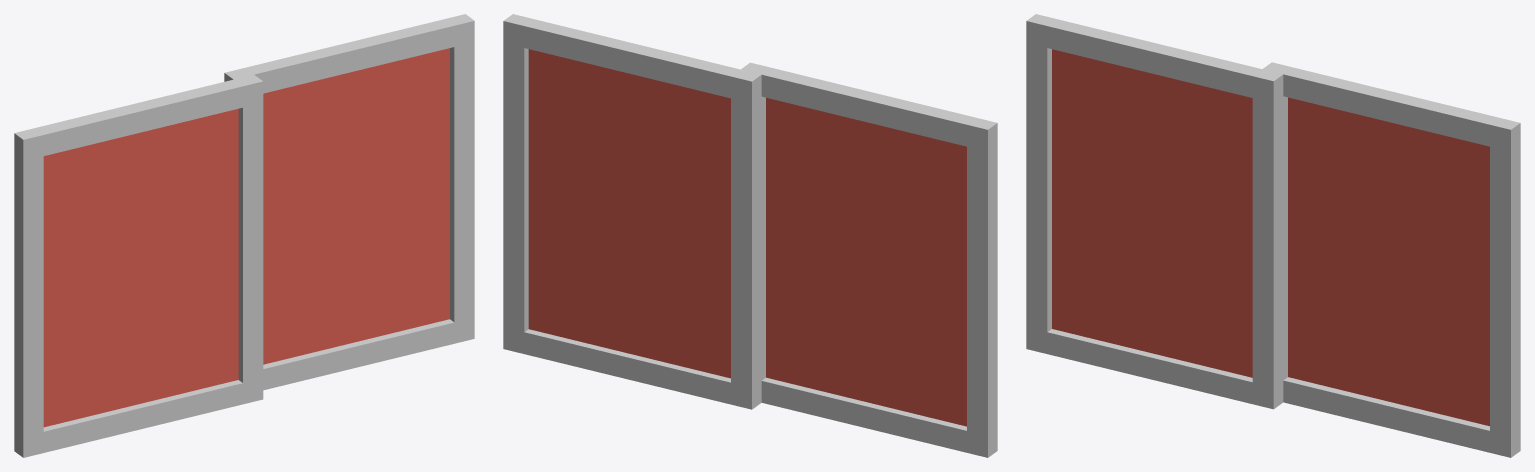
File: Mesh_WindowBig_01.fbx
The picture shows the model from 3 angles, left to right: view 1: azimuth 30°, elevation 25°; view 2: azimuth 150°, elevation 25°; view 3: azimuth 330°, elevation 25°; orthographic projection. The views are drawn at different scales.
Visible parts, largest first — view 1: Mesh_WindowBig_01; view 2: Mesh_WindowBig_01; view 3: Mesh_WindowBig_01.
Boxes of the visible parts, left/top/right/bottom form: Mesh_WindowBig_01: left=14, top=14, right=474, bottom=457; Mesh_WindowBig_01: left=503, top=14, right=997, bottom=457; Mesh_WindowBig_01: left=1026, top=14, right=1520, bottom=457.
Size of the model in its own units: 1.28 by 0.8476 by 0.0894.
